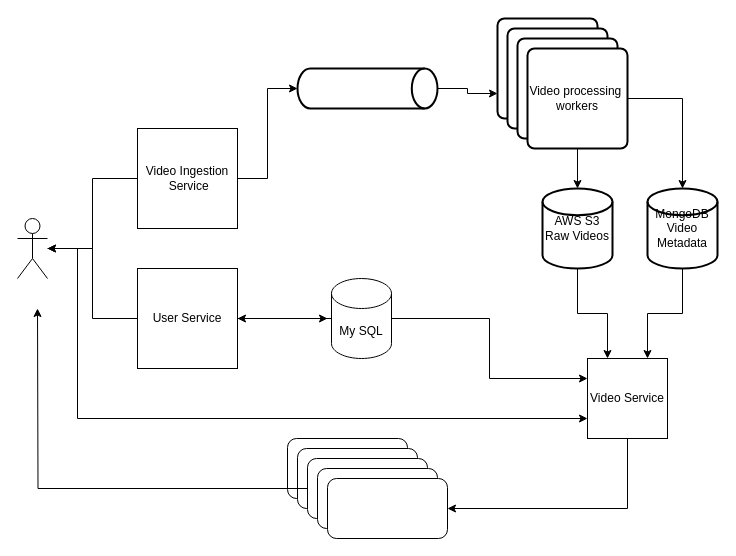
Image size: 736x556. Some labels were removed from this diagram. The shapes that lost their labels are listed below. From the top down, each one's centre as x and y in pixels, then its label:
At point 367,88: "Kafka (Video Events)".
At point 32,248: "User".
At point 387,508: "CDN".
